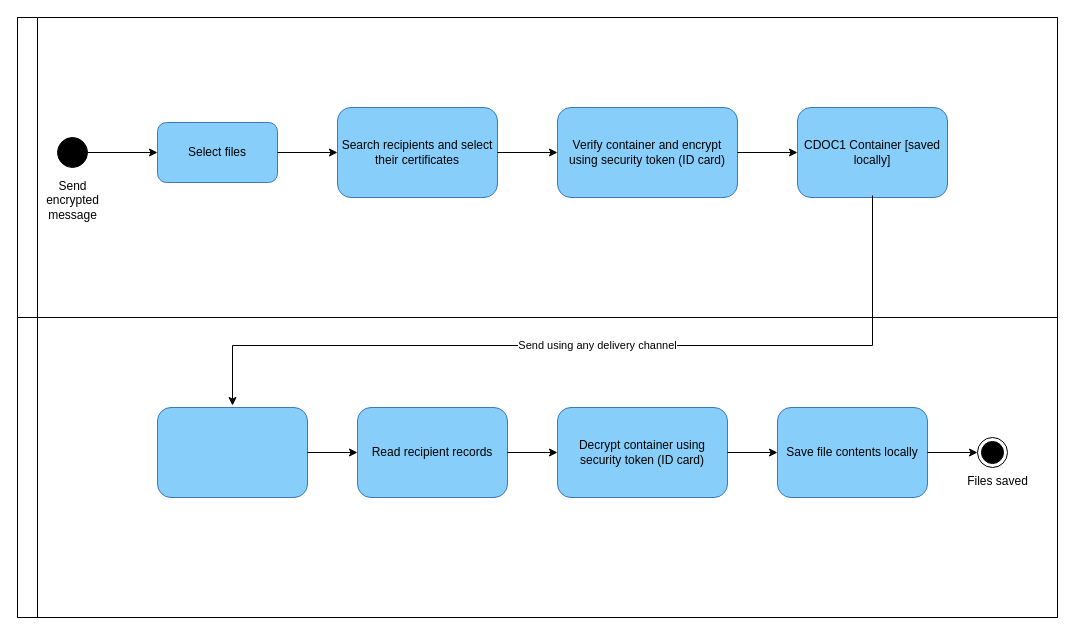
Some shapes in this 1075 by 635 pixel diagram are drawn without their labels. The shapes that lost their labels are listed below. From the top down, each one's box as (x1, y1, x2, y2) in pixels, then its label:
(16, 16, 1058, 318): Sender & Client Application (DigiDoc)
(156, 406, 308, 498): Receive CDOC1 container
(16, 316, 1058, 618): Receiver & Client Application (DigiDoc)
